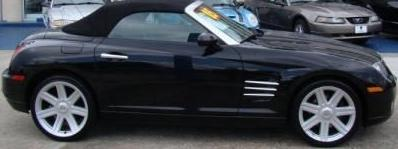backlight: (4, 39, 32, 78)
front_view: (357, 47, 397, 121)
headlight: (365, 55, 394, 86)
side_glass: (98, 8, 243, 48)
